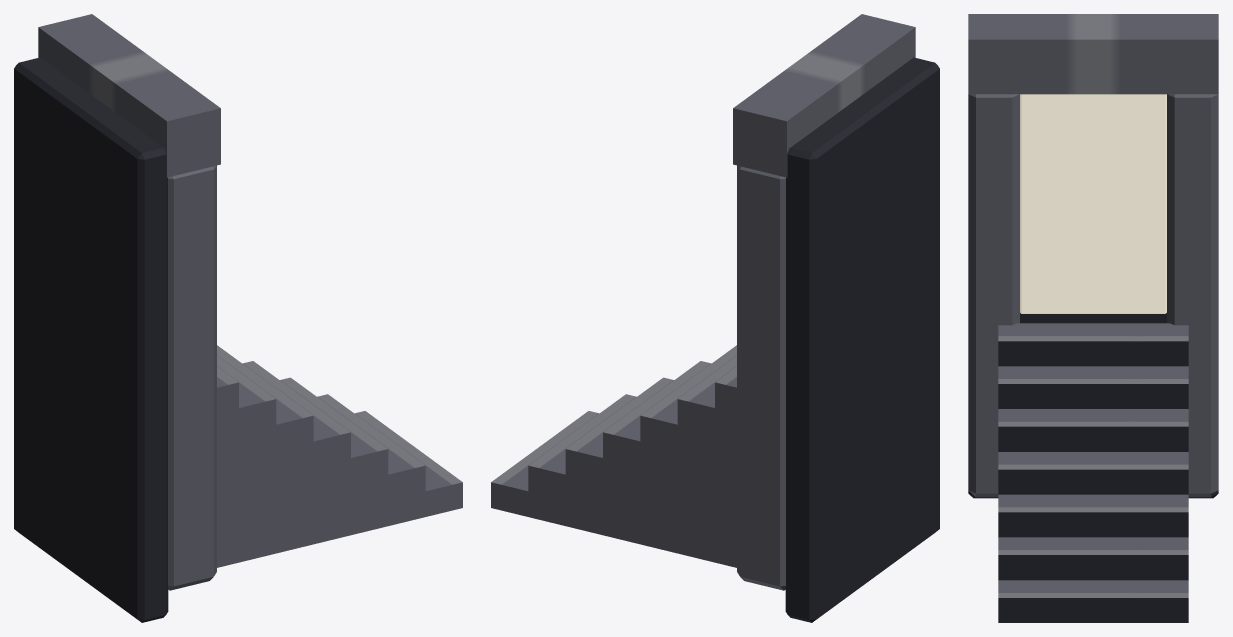
File: rig_d4baae75.glb
3 renders of one model, left to right at view 1: azimuth 30°, elevation 25°; view 2: azimuth 150°, elevation 25°; view 3: azimuth 270°, elevation 25°, orthographic. The views are drawn at different scales.
Parts seen in each view (by area): view 1: rig_d4baae75; view 2: rig_d4baae75; view 3: rig_d4baae75.
Part boxes in pixels (x1,y1,x2,y2): rig_d4baae75: [14, 14, 462, 622]; rig_d4baae75: [491, 14, 939, 622]; rig_d4baae75: [968, 14, 1218, 622].
Bounding box in the file's own units: 1.94 × 2.74 × 1.28.
2 materials, 2 textured.
